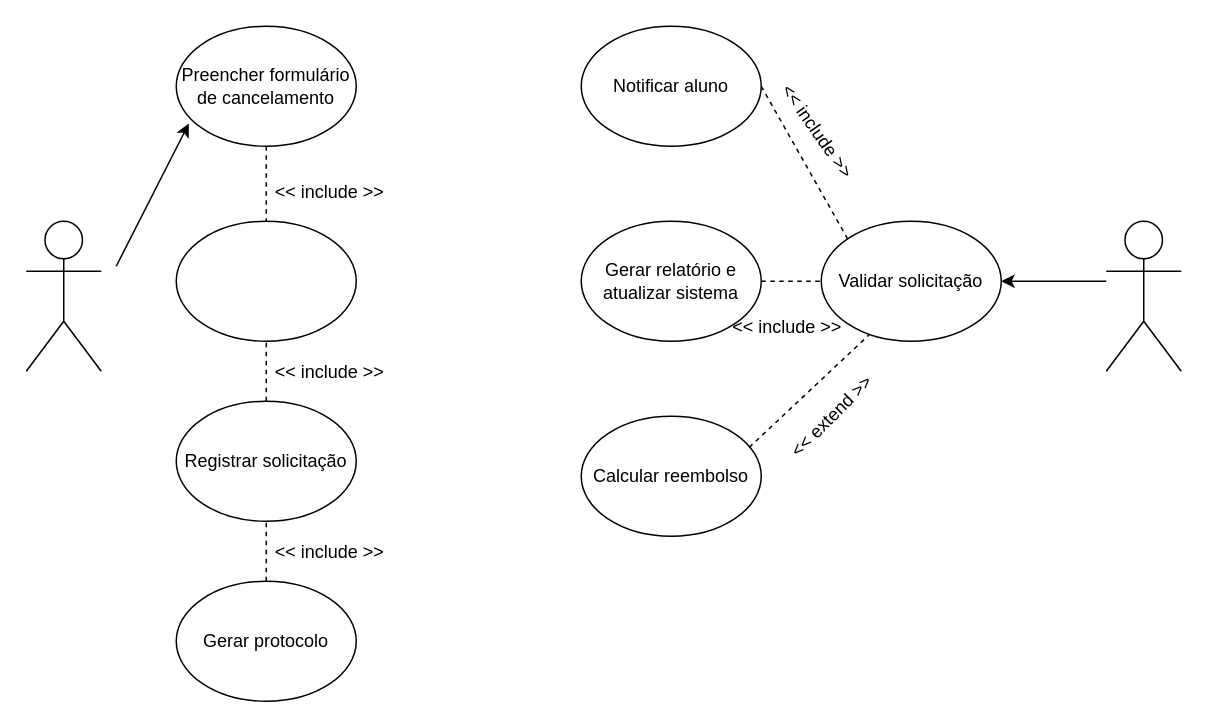
Image size: 1227x728. Some labels were removed from this diagram. Each missing label, with the centre of its shape:
"Administrador do Sistema" goes at point (1143, 295).
"Aluno" goes at point (63, 295).
"Avaliar pendências" goes at point (265, 280).
